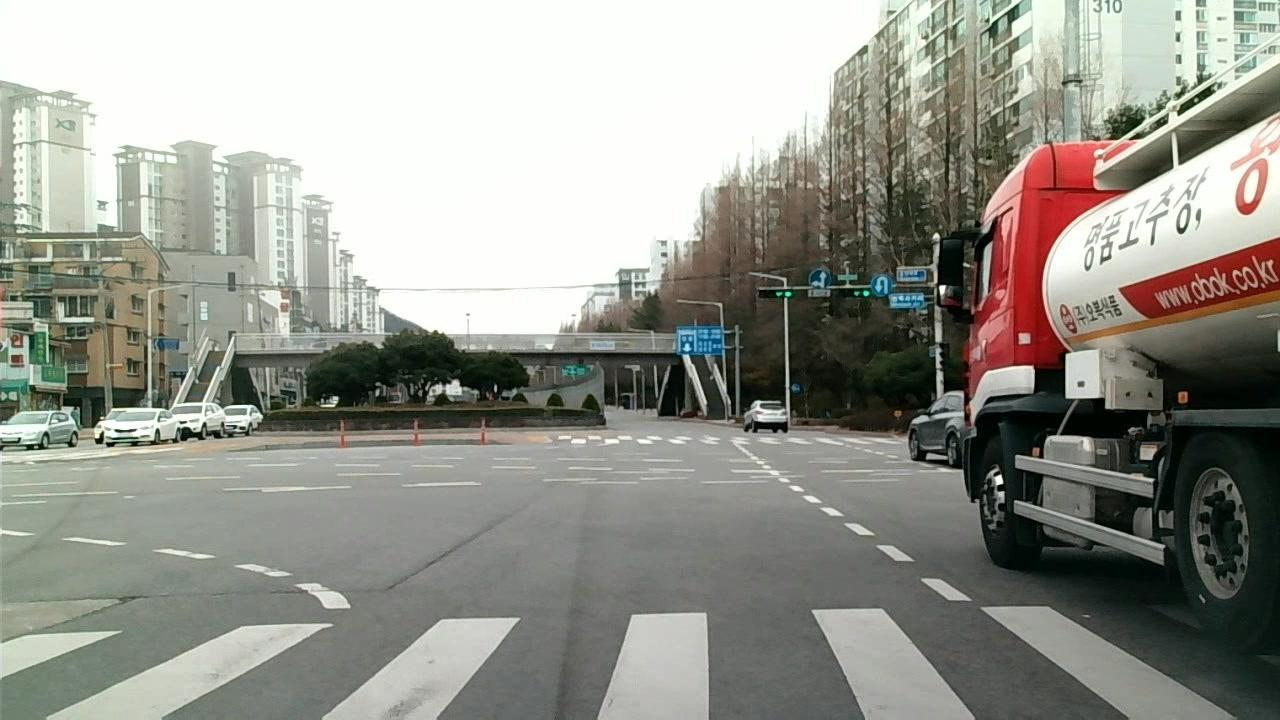banner: (381, 510, 498, 591), (106, 583, 359, 604), (9, 610, 99, 641)
